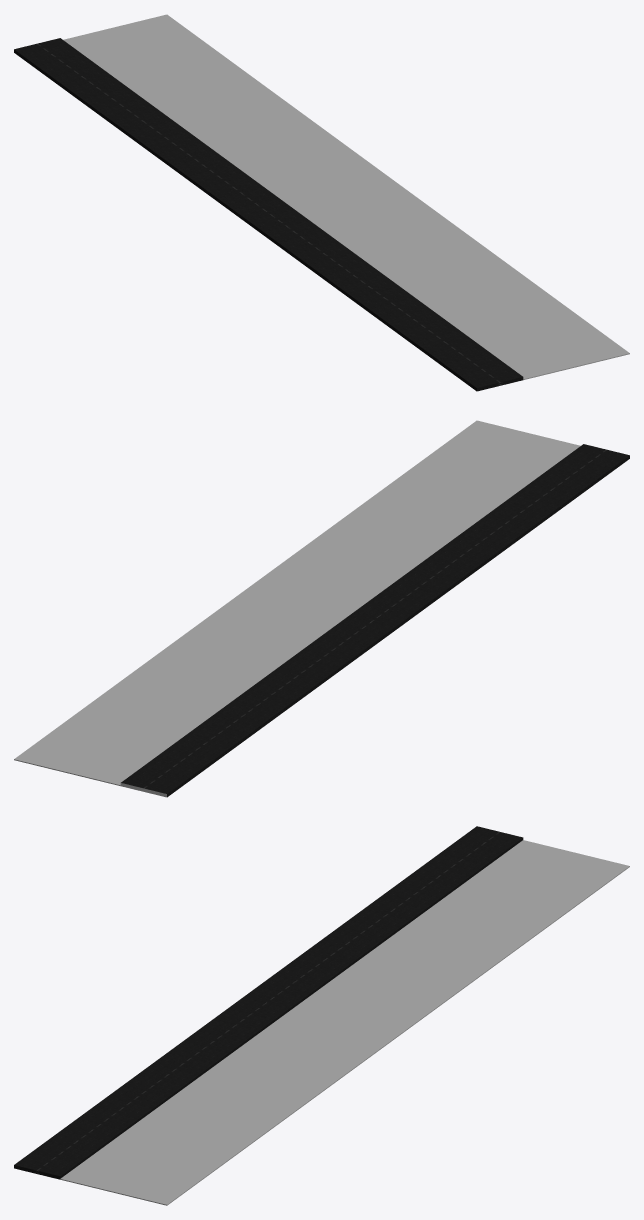
The model's file is Road(1).fbx.
The picture shows the model from 3 angles, top to bottom: view 1: azimuth 30°, elevation 25°; view 2: azimuth 150°, elevation 25°; view 3: azimuth 330°, elevation 25°; orthographic projection.
Visible parts, largest first — view 1: pCube7; view 2: pCube7; view 3: pCube7.
Part boxes in pixels (bbox=[...]): pCube7: bbox=[14, 14, 629, 391]; pCube7: bbox=[14, 420, 629, 797]; pCube7: bbox=[14, 826, 629, 1205].
Bounding box in the file's own units: 235 × 5.03 × 1232.
